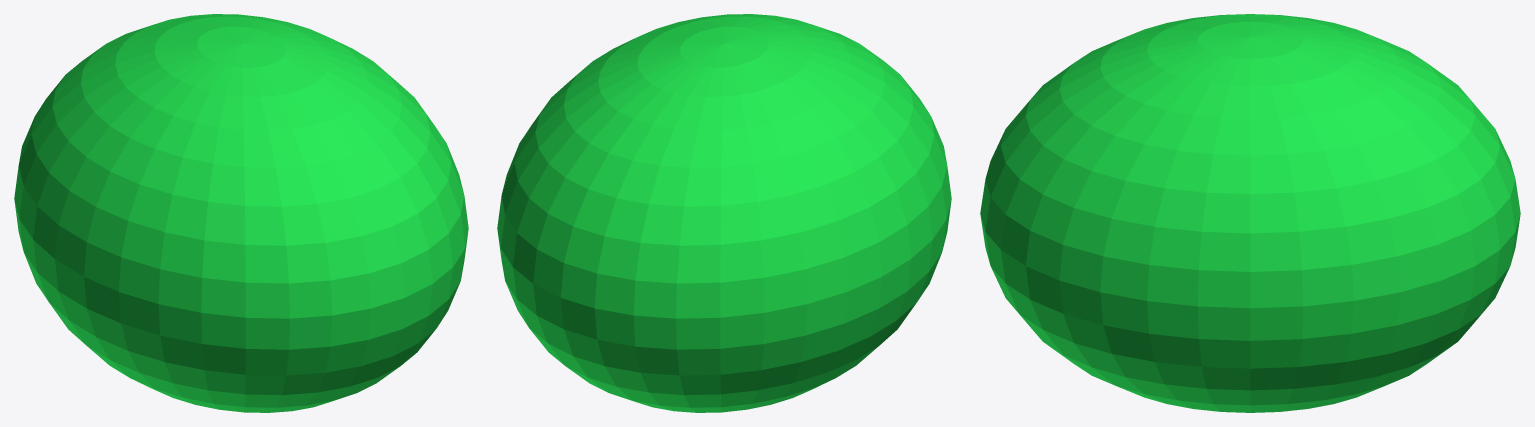
File: watermelon.fbx
The picture shows the model from 3 angles, left to right: view 1: azimuth 30°, elevation 25°; view 2: azimuth 150°, elevation 25°; view 3: azimuth 270°, elevation 25°; orthographic projection. The views are drawn at different scales.
Parts seen in each view (by area): view 1: Sphere; view 2: Sphere; view 3: Sphere.
Boxes of the visible parts, box(x1,y1,x2,y2) form: Sphere: box(14, 14, 468, 412); Sphere: box(497, 14, 951, 412); Sphere: box(980, 14, 1520, 412).
Size of the model in its own units: 813 by 706 by 980.
